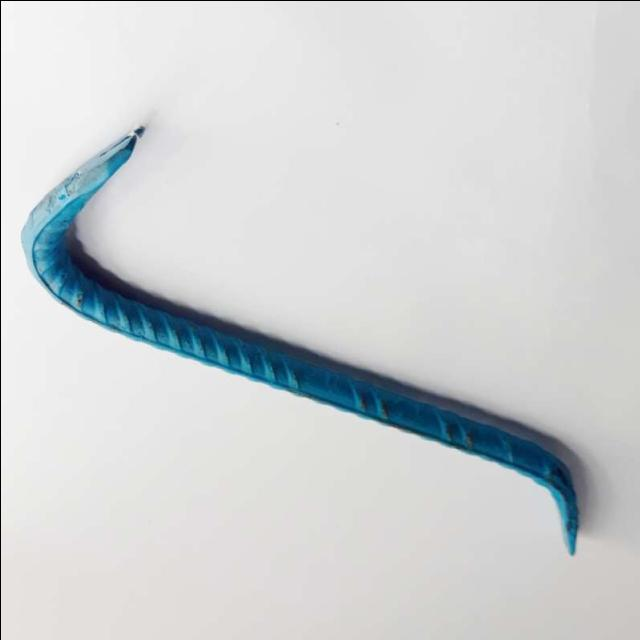Linggis: (22, 128, 580, 556)
